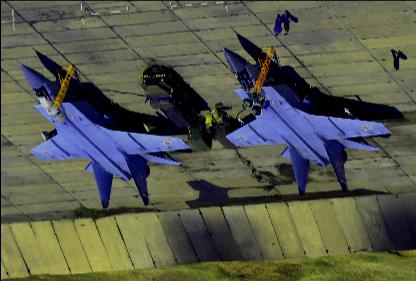Mig31: (224, 40, 390, 195), (29, 58, 190, 210)
